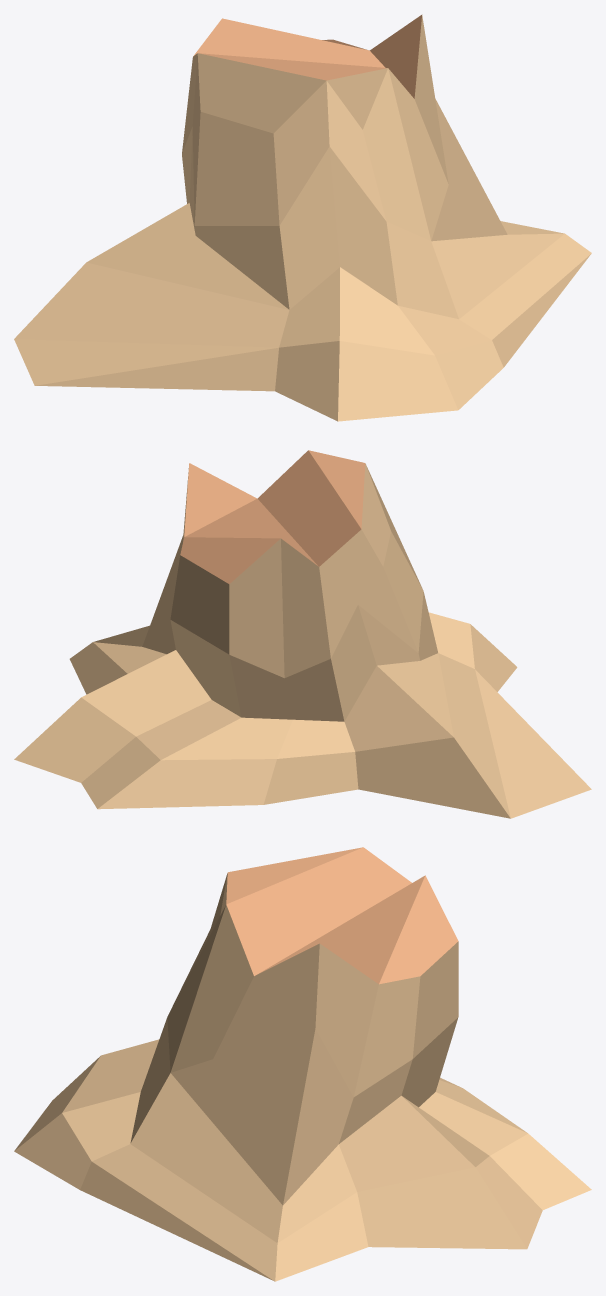
File: Dead Tree 2.fbx
3 views of the same model, one above another, from view 1: azimuth 30°, elevation 25°; view 2: azimuth 150°, elevation 25°; view 3: azimuth 270°, elevation 25° (orthographic). The views are drawn at different scales.
Parts seen in each view (by area): view 1: Dead Tree 2; view 2: Dead Tree 2; view 3: Dead Tree 2.
Part boxes in pixels (bbox=[...]): Dead Tree 2: bbox=[14, 14, 591, 421]; Dead Tree 2: bbox=[14, 450, 591, 818]; Dead Tree 2: bbox=[14, 847, 591, 1281].
Bounding box in the file's own units: 121 × 54.07 × 107.
